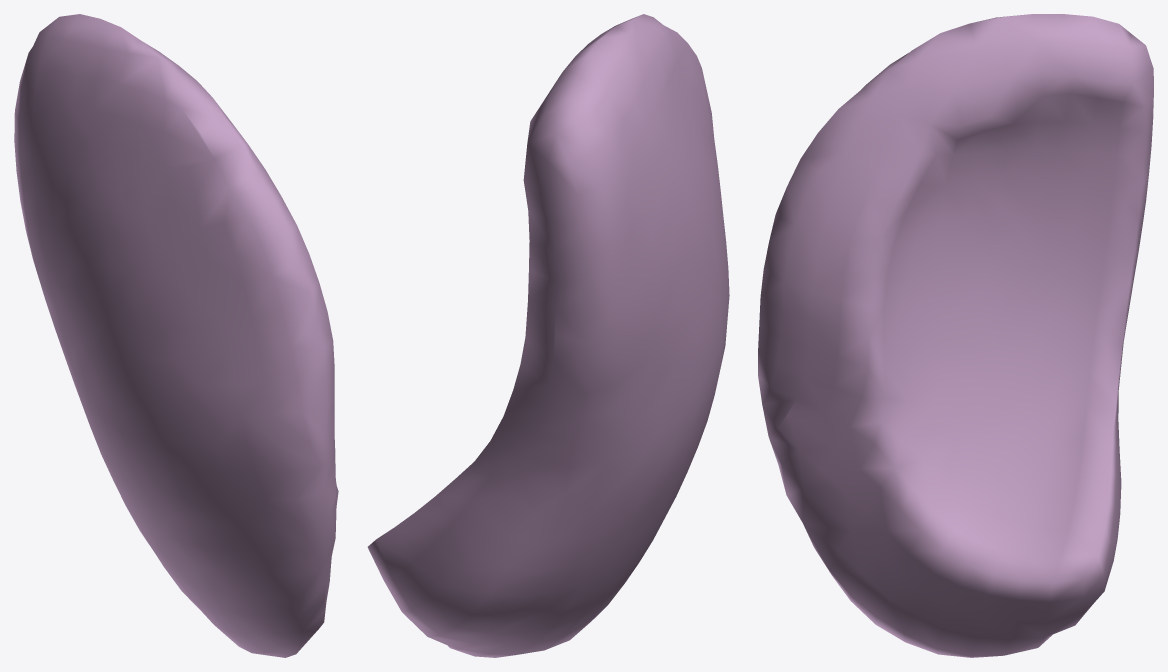
The picture shows the model from 3 angles, left to right: view 1: azimuth 30°, elevation 25°; view 2: azimuth 150°, elevation 25°; view 3: azimuth 270°, elevation 25°; orthographic projection. The views are drawn at different scales.
Visible parts, largest first — view 1: 右侧壳; view 2: 右侧壳; view 3: 右侧壳.
Part boxes in pixels (<box>): 右侧壳: <box>14,14,338,657</box>; 右侧壳: <box>367,14,729,657</box>; 右侧壳: <box>758,14,1153,657</box>.
Bounding box in the file's own units: 0.0261 × 0.0614 × 0.0371.
